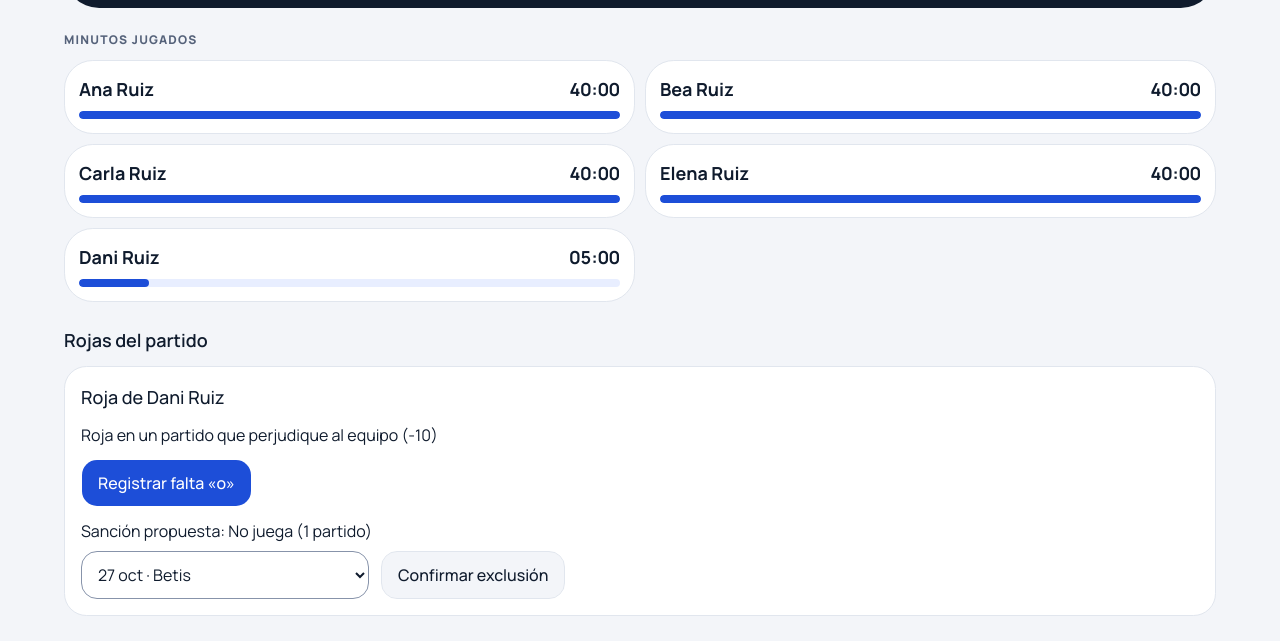
Test: rojas en el resumen del partido › si se corta la red al registrar avisa de que puede haberse registrado
The width and height of the screenshot is (1280, 641).
(page scrolled)
Click the button with aria-label "Registrar falta «o» a Dani Ruiz": click(166, 483) [81,459,252,507]
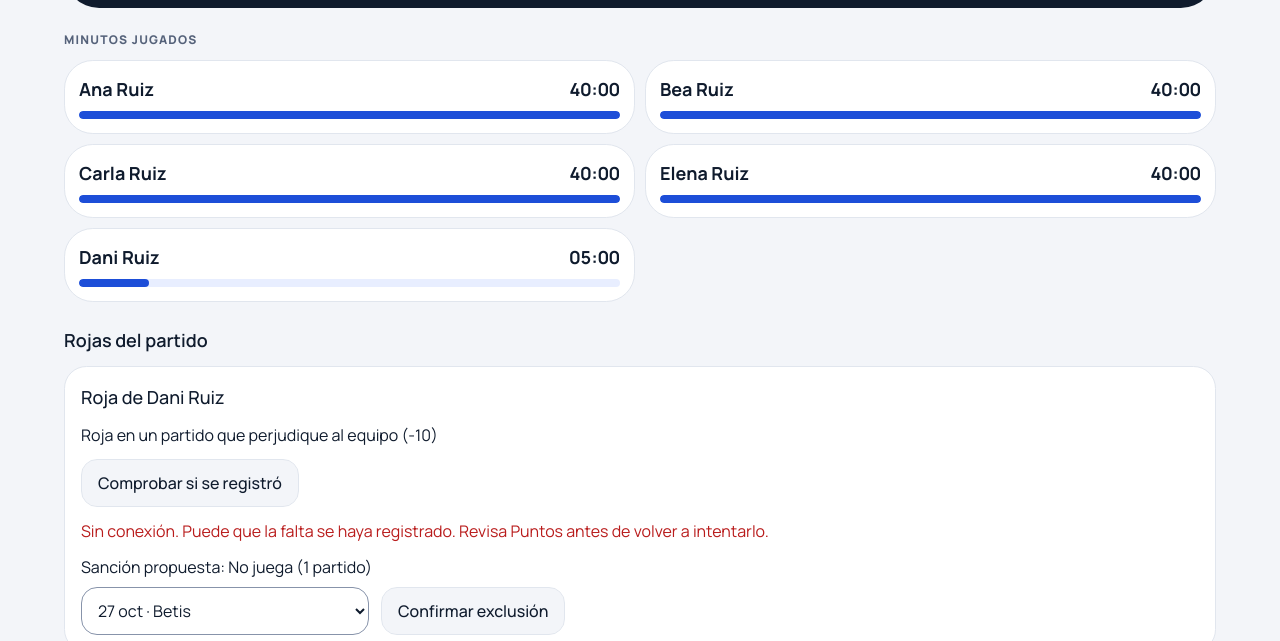
Expected: the message shows "Puede que la falta se haya registrado. Revisa Puntos antes de volver a intentarlo", [81,520,769,542]
